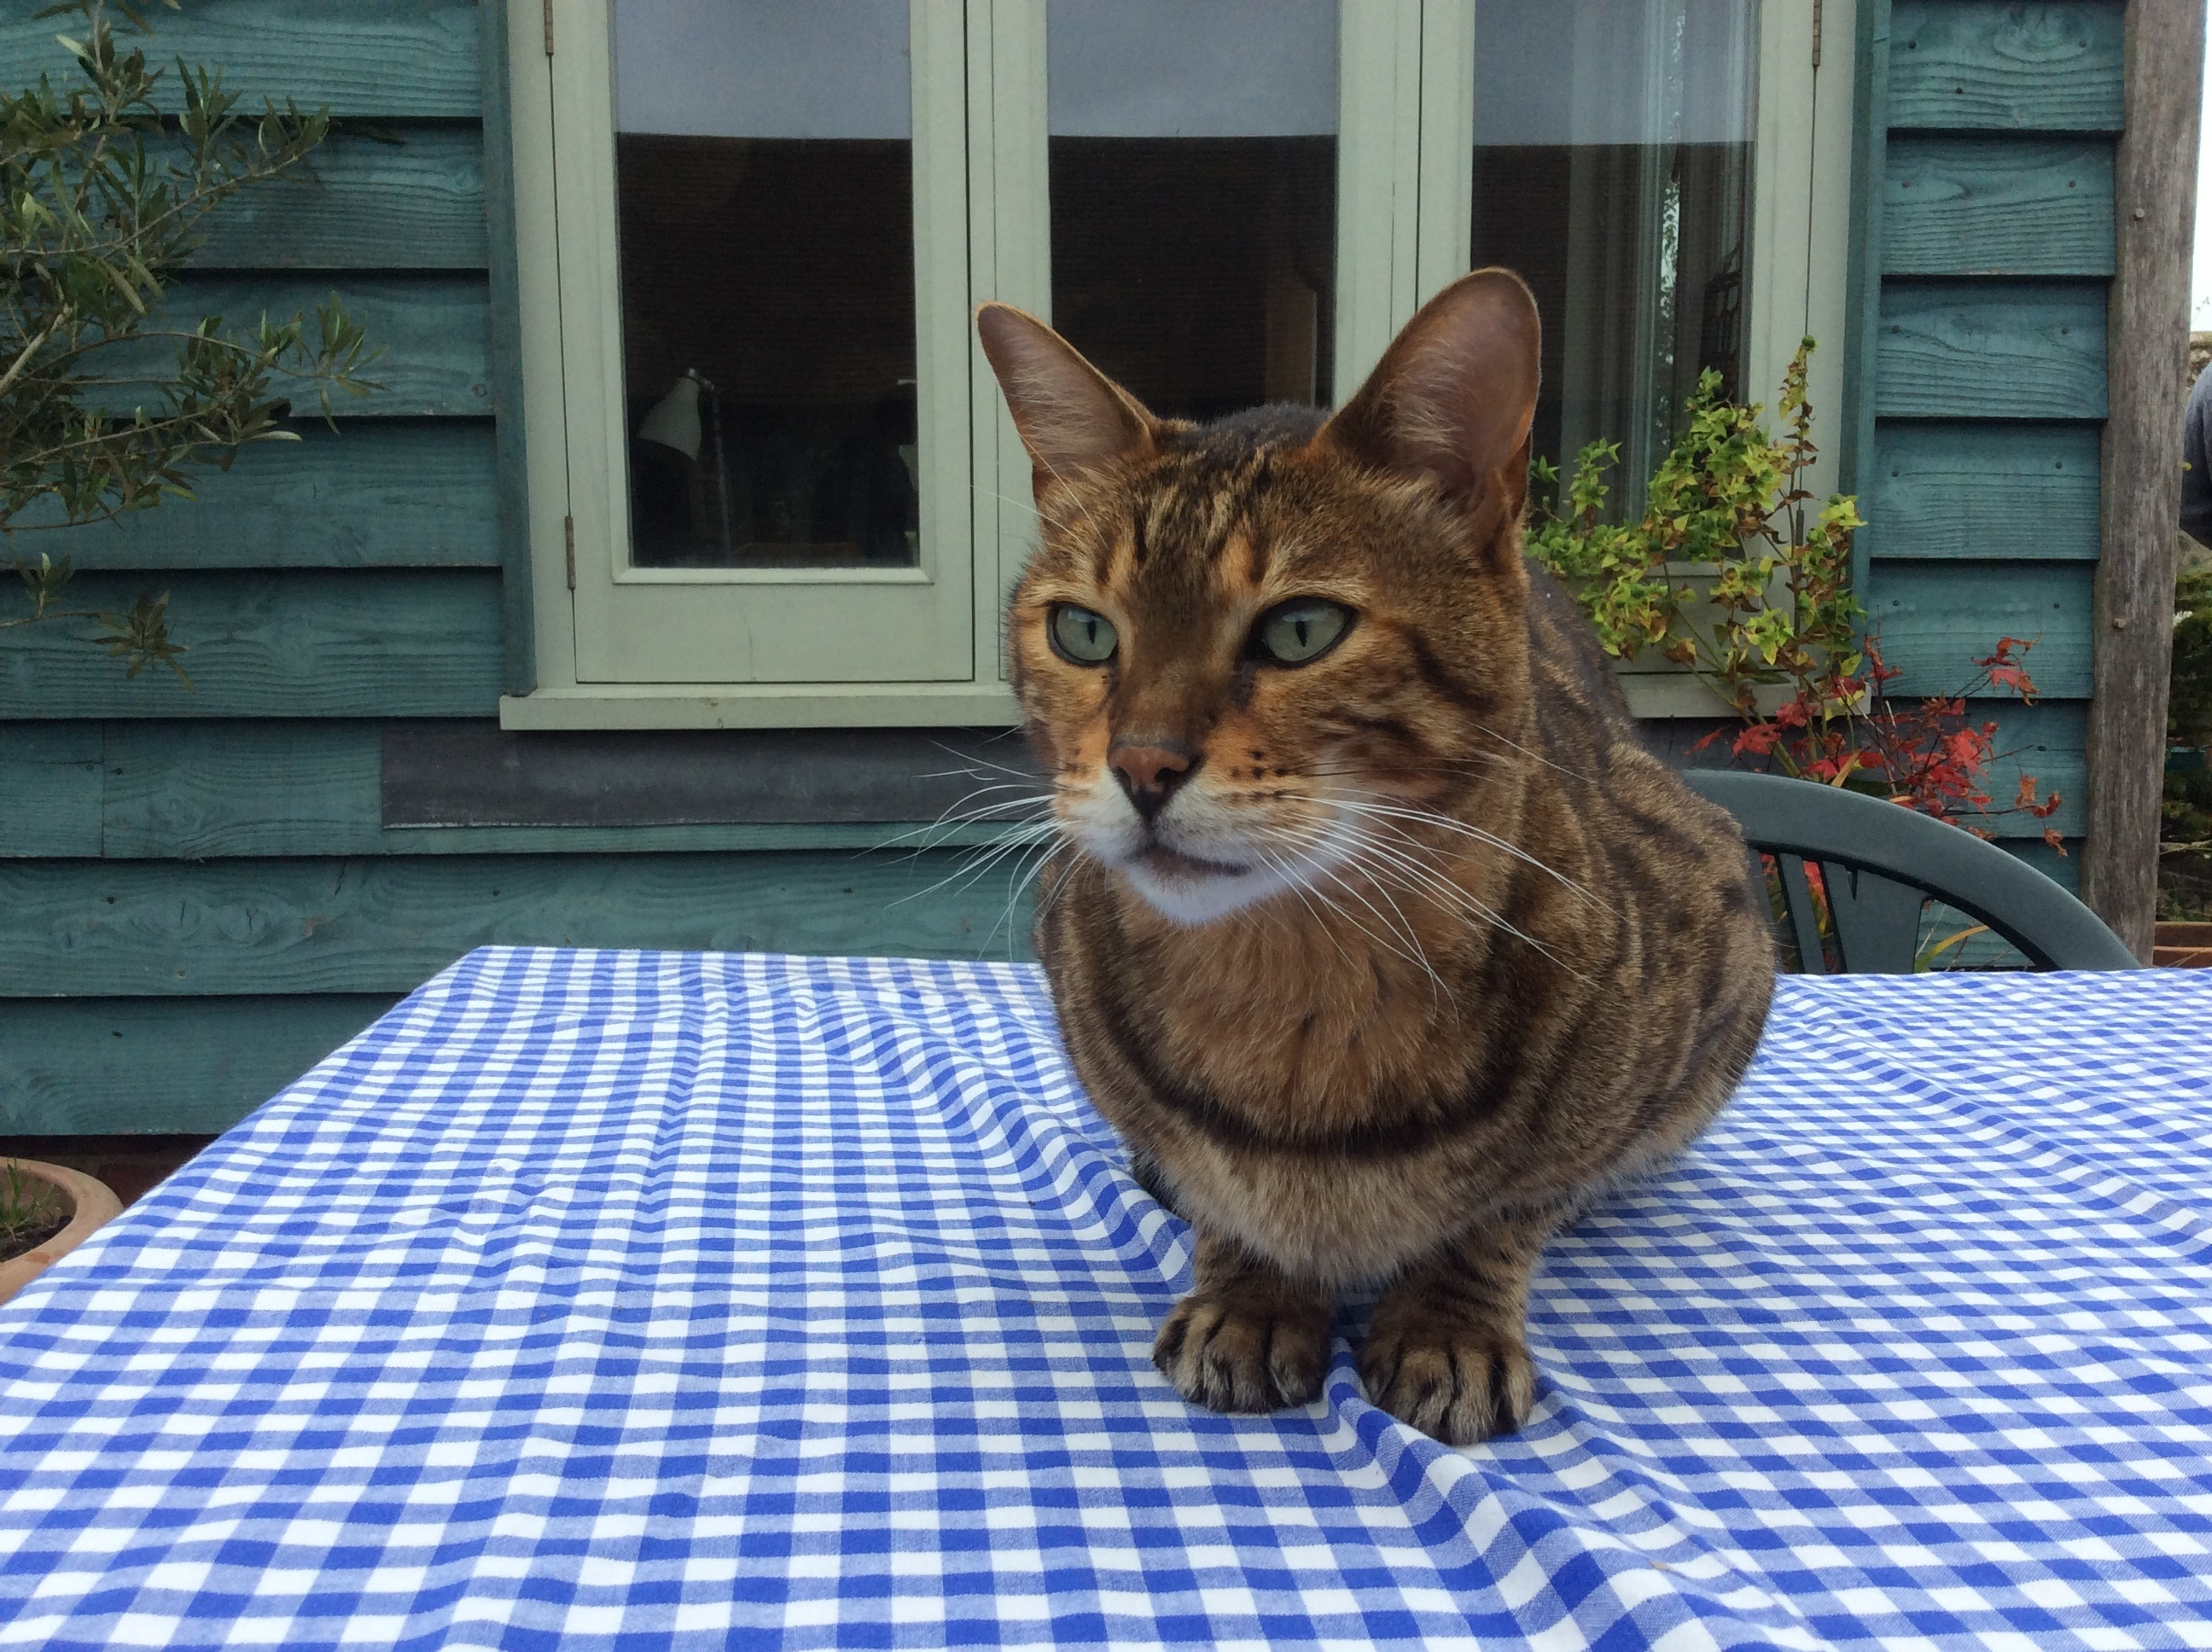Bengal: (852, 203, 1825, 1468)
